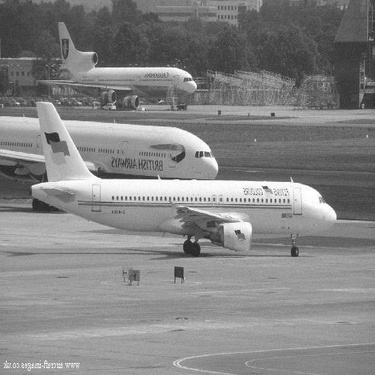airplane: (24, 94, 344, 261), (4, 103, 223, 182), (34, 17, 199, 109)
